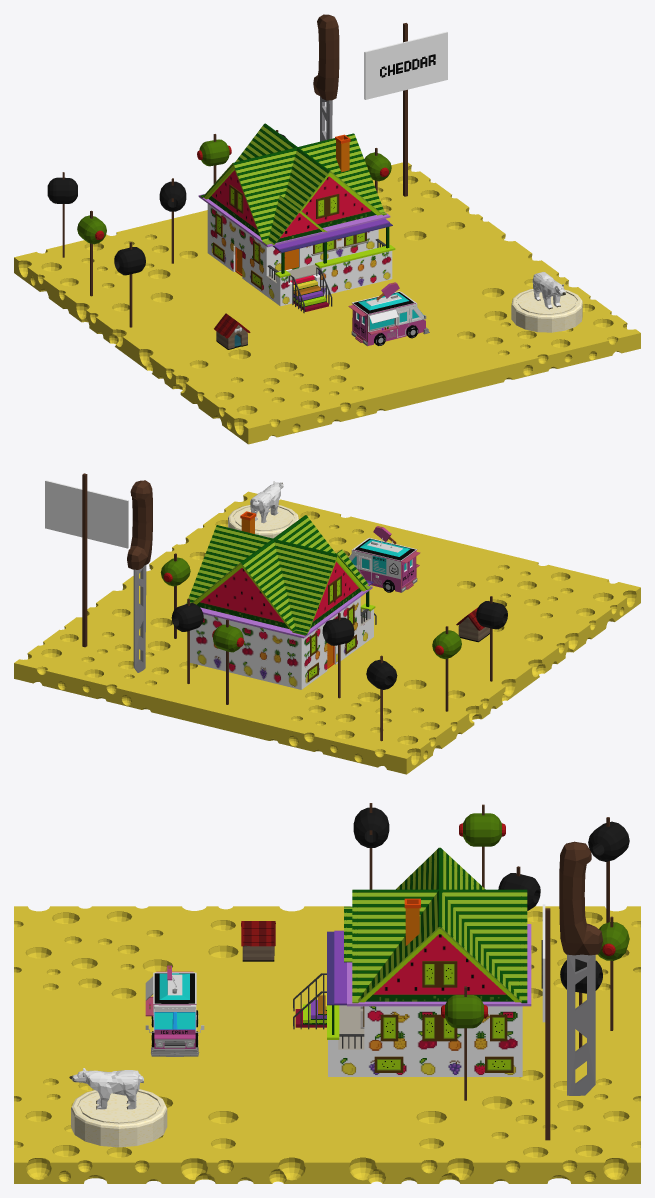
The picture shows the model from 3 angles, top to bottom: view 1: azimuth 30°, elevation 25°; view 2: azimuth 150°, elevation 25°; view 3: azimuth 270°, elevation 25°; orthographic projection. The views are drawn at different scales.
Visible parts, largest first — view 1: Cube.022, Cube.1063, Cube.023, VEHICLES_ICE_CREAM_TRUCK, Cylinder.016, Cube.024, Sphere.017, Sphere.016, OBJRANDOM_DOGHOUSE, Sphere.020, Sphere.018, Sphere.022 (+2 smaller); view 2: Cube.022, Cube.1063, Cube.023, Cube.024, VEHICLES_ICE_CREAM_TRUCK, Cylinder.016, Sphere.017, Sphere.020, Sphere.021, Sphere.016, Sphere.018, Sphere.022 (+3 smaller); view 3: Cube.022, Cube.1063, Cube.024, Cylinder.016, VEHICLES_ICE_CREAM_TRUCK, Cube.023, ANIMAL_OSO_POLAR, Sphere.019, Sphere.016, Sphere.018, OBJRANDOM_DOGHOUSE, Sphere.017 (+3 smaller).
Part boxes in pixels (left/top/right/bottom): Cube.022: left=14, top=162, right=640, bottom=444; Cube.1063: left=198, top=123, right=395, bottom=313; Cube.023: left=364, top=23, right=447, bottom=196; VEHICLES_ICE_CREAM_TRUCK: left=348, top=282, right=429, bottom=346; Cylinder.016: left=511, top=289, right=582, bottom=332; Cube.024: left=313, top=14, right=339, bottom=141; Sphere.017: left=114, top=242, right=145, bottom=327; Sphere.016: left=47, top=172, right=77, bottom=257; OBJRANDOM_DOGHOUSE: left=214, top=313, right=250, bottom=349; Sphere.020: left=159, top=178, right=186, bottom=263; Sphere.018: left=77, top=210, right=106, bottom=296; Sphere.022: left=197, top=134, right=231, bottom=183; Cube.022: left=14, top=491, right=640, bottom=774; Cube.1063: left=185, top=511, right=376, bottom=689; Cube.023: left=45, top=473, right=128, bottom=647; Cube.024: left=127, top=480, right=152, bottom=672; VEHICLES_ICE_CREAM_TRUCK: left=348, top=526, right=420, bottom=592; Cylinder.016: left=228, top=505, right=298, bottom=538; Sphere.017: left=476, top=596, right=507, bottom=681; Sphere.020: left=322, top=612, right=354, bottom=698; Sphere.021: left=171, top=598, right=203, bottom=683; Sphere.016: left=366, top=655, right=397, bottom=741; Sphere.018: left=432, top=626, right=461, bottom=711; Sphere.022: left=212, top=619, right=244, bottom=704; Cube.022: left=14, top=906, right=640, bottom=1183; Cube.1063: left=293, top=847, right=531, bottom=1076; Cube.024: left=559, top=841, right=602, bottom=1095; Cylinder.016: left=71, top=1089, right=167, bottom=1147; VEHICLES_ICE_CREAM_TRUCK: left=145, top=965, right=204, bottom=1056; Cube.023: left=541, top=904, right=550, bottom=1140; ANIMAL_OSO_POLAR: left=69, top=1068, right=143, bottom=1109; Sphere.019: left=441, top=986, right=487, bottom=1100; Sphere.016: left=588, top=817, right=629, bottom=922; Sphere.018: left=459, top=804, right=505, bottom=887; OBJRANDOM_DOGHOUSE: left=241, top=921, right=275, bottom=961; Sphere.017: left=353, top=803, right=389, bottom=889.
Size of the model in its own units: 3917 by 2007 by 4000.
Materials: 46 (5 with a texture image).
